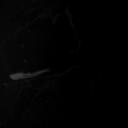fish: (10, 68, 49, 80)
